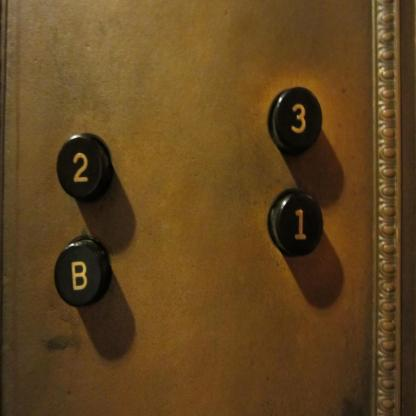1: (265, 183, 325, 261)
2: (55, 130, 114, 206)
3: (265, 84, 323, 158)
B: (50, 236, 112, 310)
